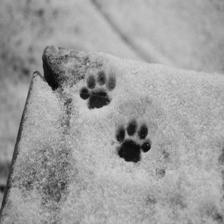cat: (108, 121, 155, 168), (76, 71, 124, 111)
